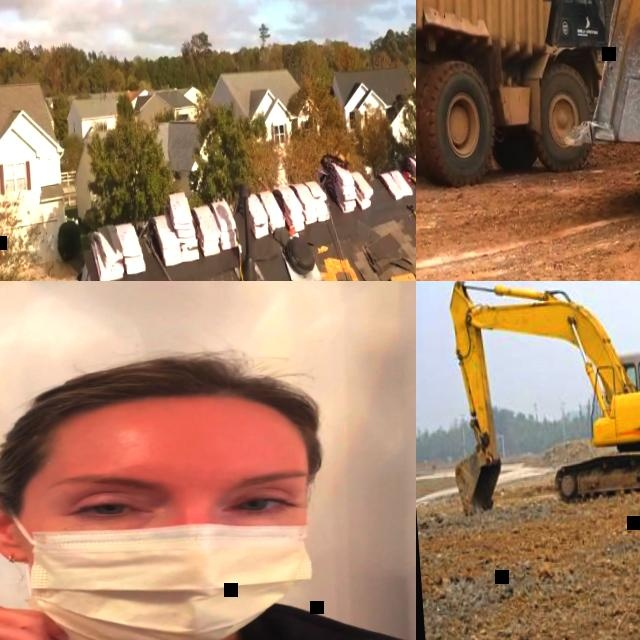Mask: (30, 508, 325, 640)
NO-Hardhat: (1, 359, 327, 463)
Person: (0, 338, 416, 640), (638, 376, 640, 392)
machinery: (440, 281, 640, 514), (416, 0, 618, 194), (539, 0, 640, 249)
